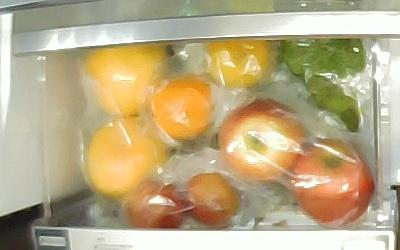apple_vinyl: (288, 139, 374, 222), (217, 100, 302, 182)
grapefruit_vinyl: (83, 43, 166, 118), (89, 119, 168, 195)
persimmon_vinyl: (152, 76, 213, 139), (206, 39, 272, 88)
prune_vinyl: (184, 172, 241, 226), (126, 183, 184, 231)
